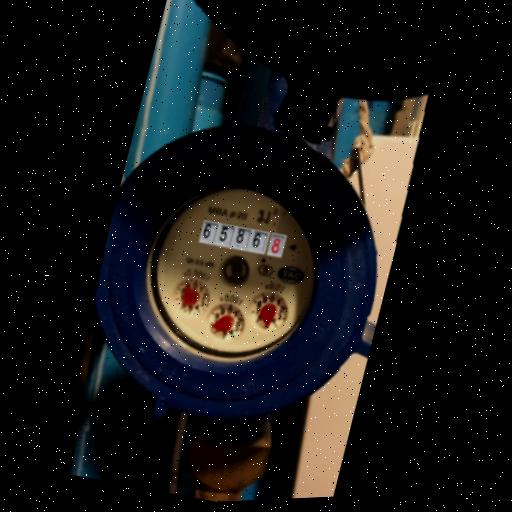5: (218, 224, 233, 245)
6: (200, 222, 217, 243), (251, 232, 267, 253)
8: (234, 229, 251, 249), (268, 235, 284, 255)
border_water_meter_number: (198, 215, 288, 261)
